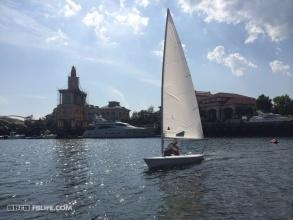fanchuan: (138, 6, 219, 173)
yacht: (79, 113, 153, 141)
